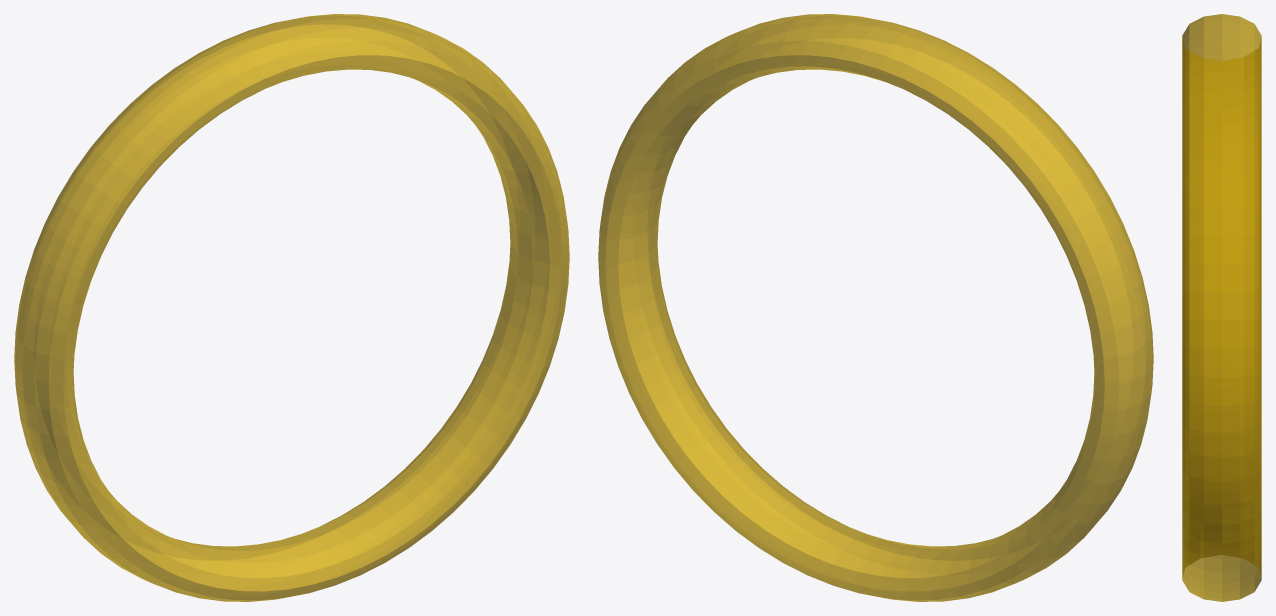
The model's file is ring.fbx.
3 renders of one model, left to right at view 1: azimuth 30°, elevation 25°; view 2: azimuth 150°, elevation 25°; view 3: azimuth 270°, elevation 25°, orthographic. The views are drawn at different scales.
Parts seen in each view (by area): view 1: Circle; view 2: Circle; view 3: Circle.
Boxes of the visible parts, x1,y1,x2,y2 form: Circle: [14, 14, 569, 601]; Circle: [598, 14, 1153, 601]; Circle: [1182, 14, 1261, 601].
Size of the model in its own units: 2.04 by 2.04 by 0.2754.
